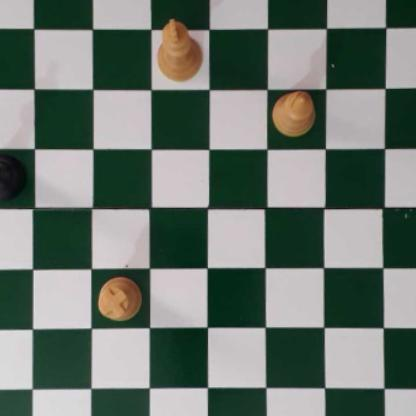black-king: (0, 150, 25, 199)
white-bishop: (272, 90, 315, 137)
white-king: (155, 19, 203, 83)
white-rook: (96, 277, 143, 321)
